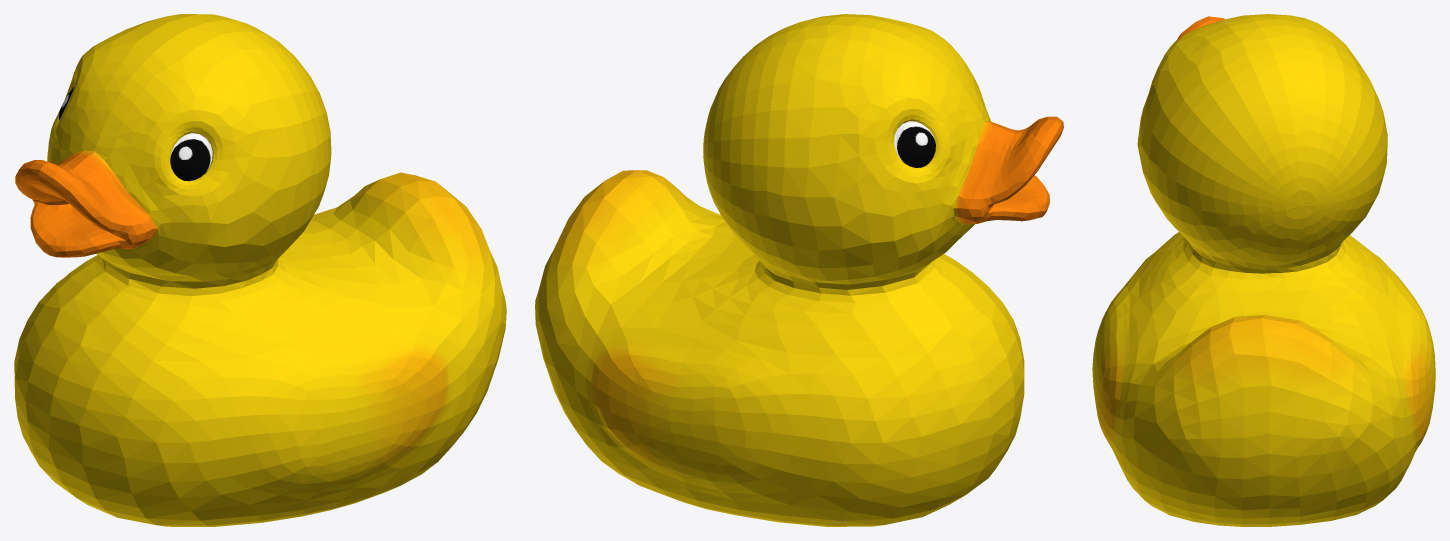
Rendered from duck.glb.
The picture shows the model from 3 angles, left to right: view 1: azimuth 30°, elevation 25°; view 2: azimuth 150°, elevation 25°; view 3: azimuth 270°, elevation 25°; orthographic projection. The views are drawn at different scales.
Size of the model in its own units: 0.5 by 0.4655 by 0.3489.
Materials: 1 (1 with a texture image).
